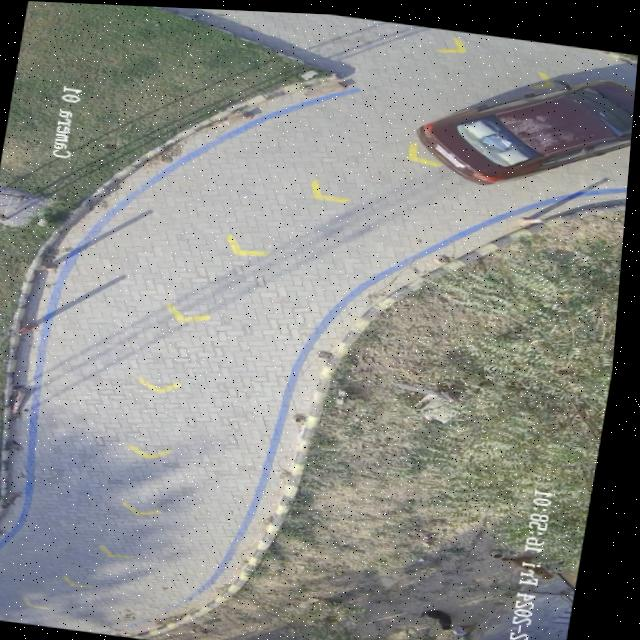car: (416, 72, 636, 179)
